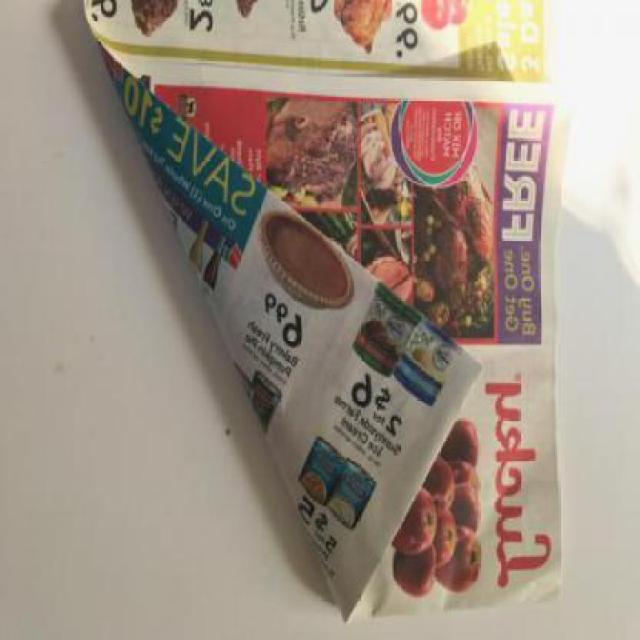PAPER: (84, 0, 573, 612)
